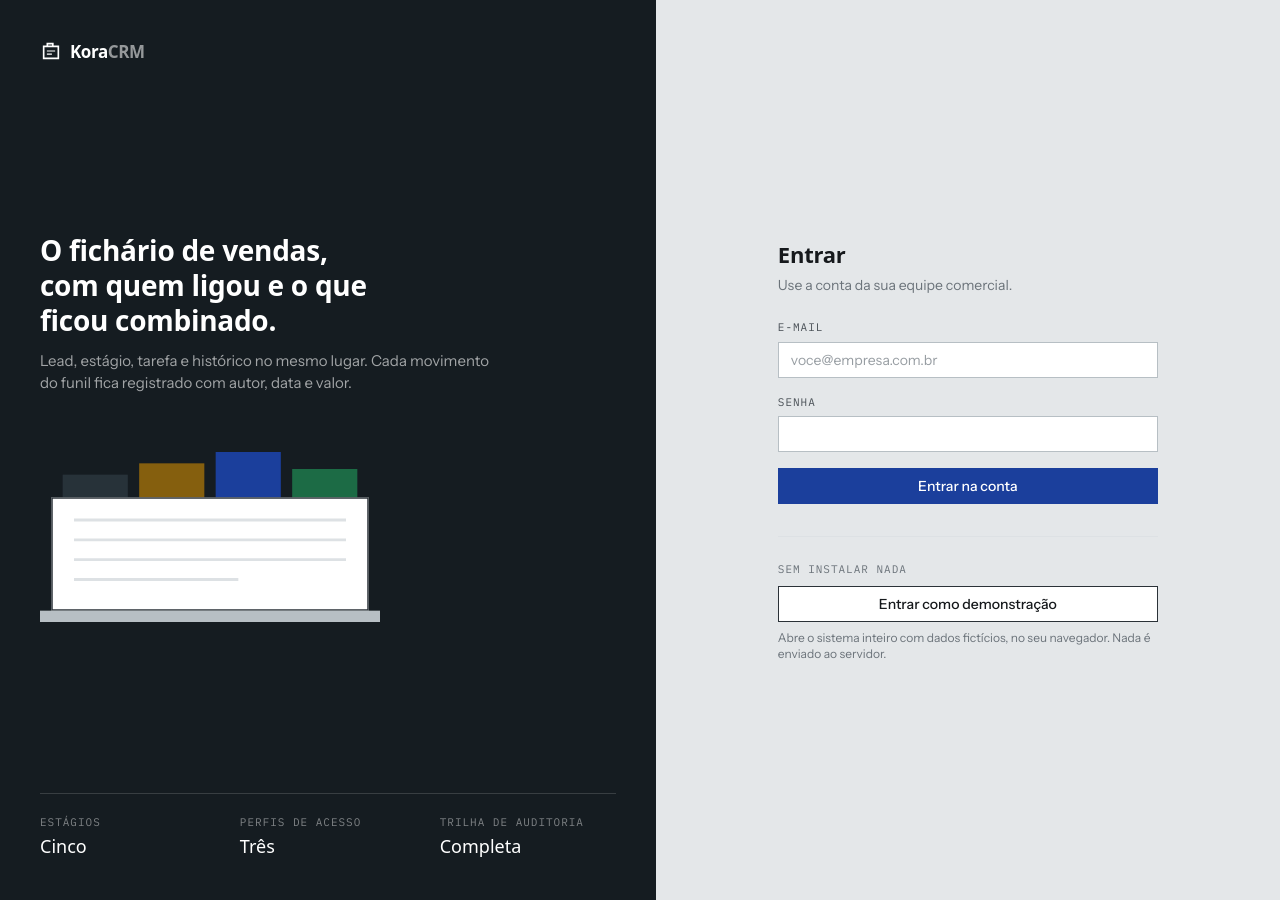
Test: FormLogin › mostra erro de validação para email inválido
In the field labelled "E-mail": x=968, y=360 left=778, top=342, right=1158, bottom=378, type "email-invalido"
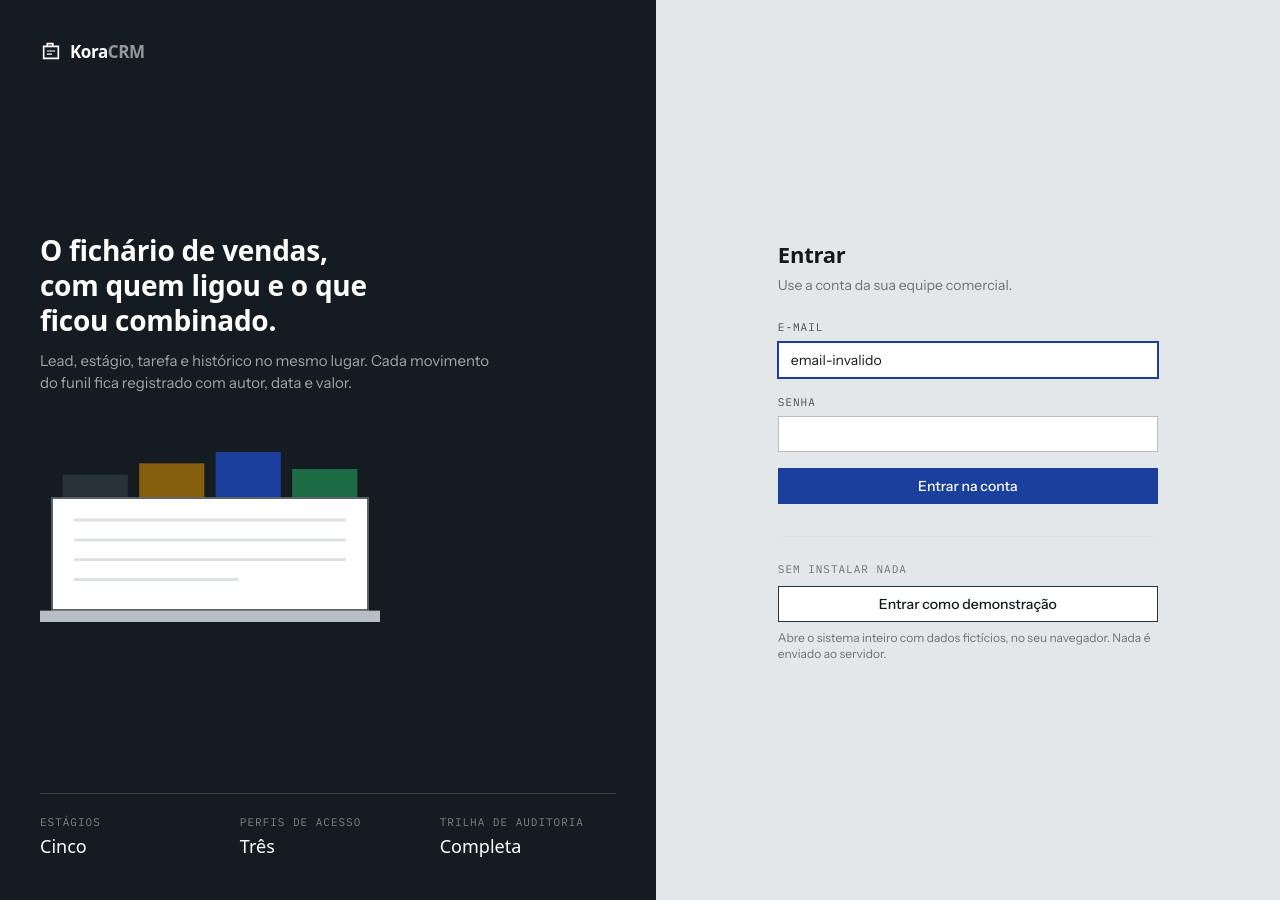
Click the button "Entrar na conta": x=968, y=486 left=778, top=468, right=1158, bottom=504
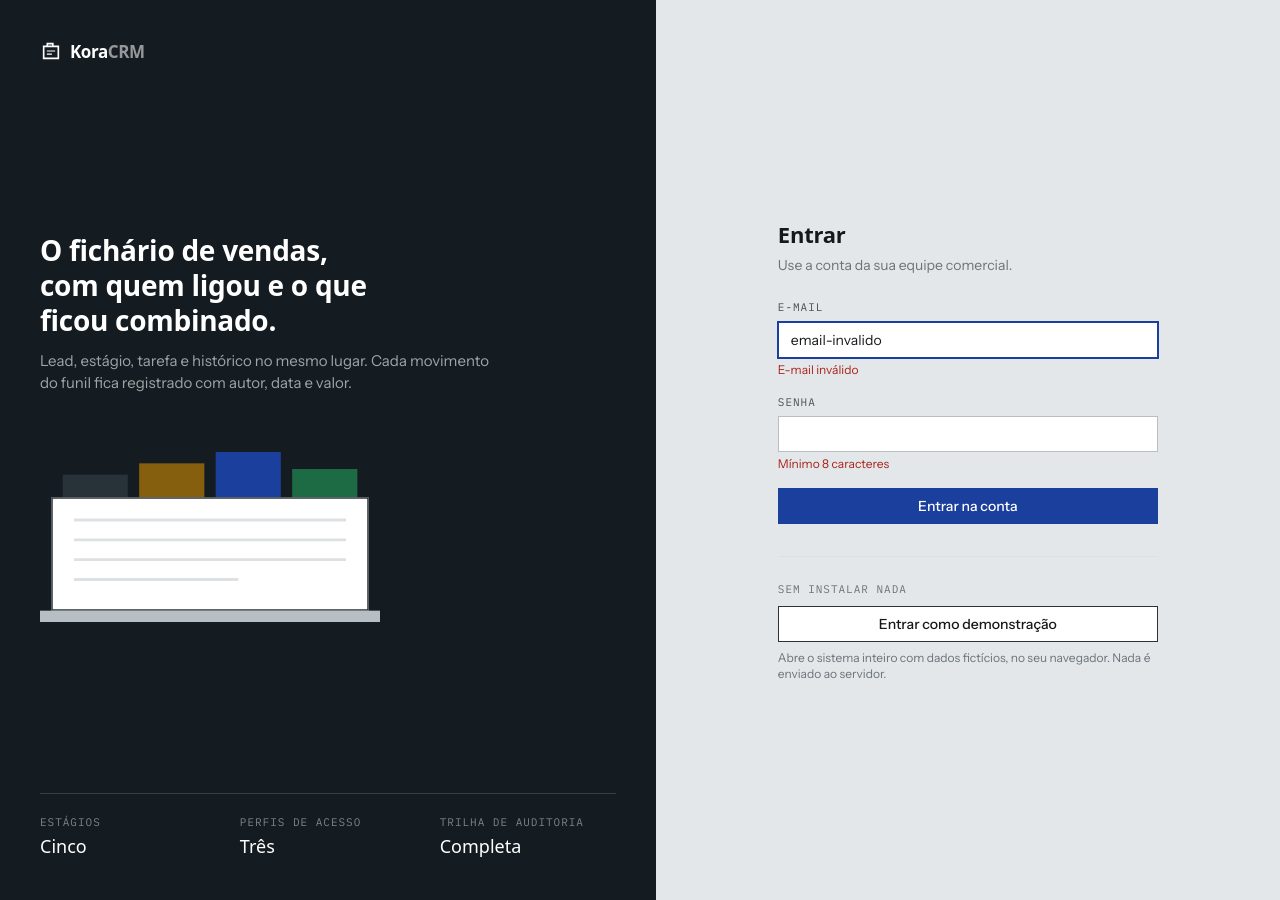
Result: the text "E-mail inválido" is shown at left=778, top=362, right=858, bottom=377
